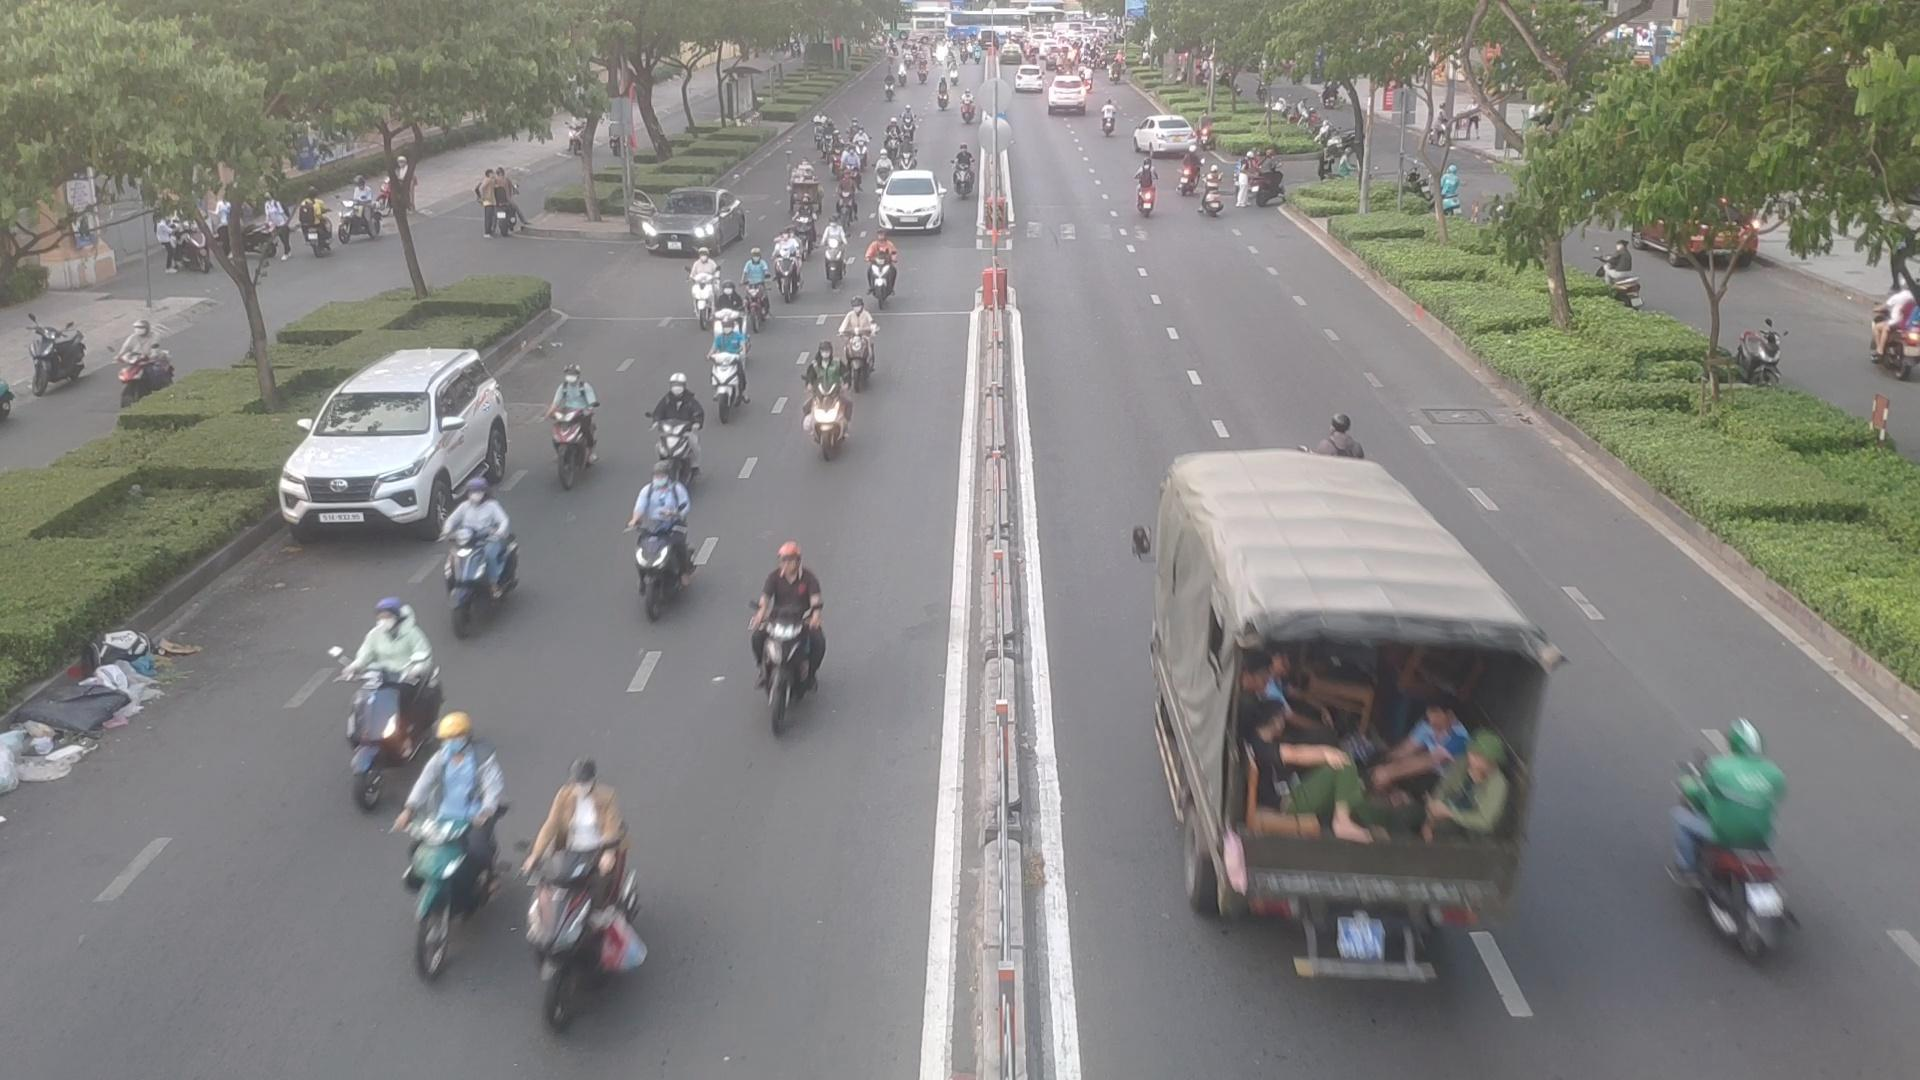car: (1106, 456, 1564, 986), (276, 345, 516, 541), (632, 189, 753, 258), (872, 171, 945, 233), (1133, 116, 1197, 154)
motorbike: (389, 702, 502, 989), (517, 754, 637, 1007), (1669, 700, 1793, 928), (342, 597, 414, 806), (765, 529, 818, 762), (440, 497, 512, 626), (636, 458, 684, 618), (651, 376, 702, 485), (551, 371, 596, 483), (835, 295, 880, 396), (713, 316, 750, 425), (808, 339, 845, 444), (771, 218, 804, 314), (862, 231, 895, 311), (679, 248, 709, 328), (1196, 161, 1229, 223), (744, 243, 765, 319), (822, 219, 844, 290), (1133, 161, 1156, 214), (795, 196, 818, 252), (832, 173, 855, 225), (953, 144, 973, 200), (898, 138, 920, 185), (1178, 148, 1199, 190), (876, 144, 889, 199), (828, 135, 847, 171), (885, 115, 899, 158), (856, 127, 872, 165)
